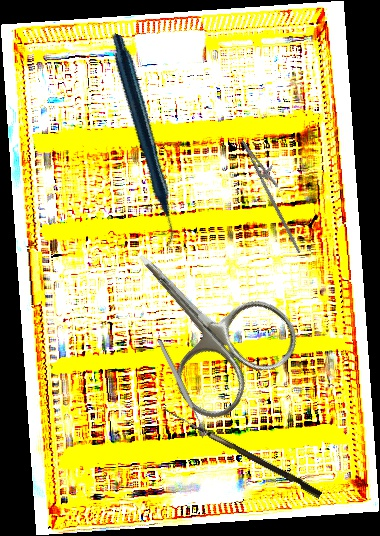Handpiece: (48, 32, 236, 248)
Hook Surgical: (160, 408, 324, 499)
Iris Scissors: (92, 210, 309, 430)
Needle Holder: (227, 134, 322, 254)
Surgical Spoon: (156, 338, 209, 438)
